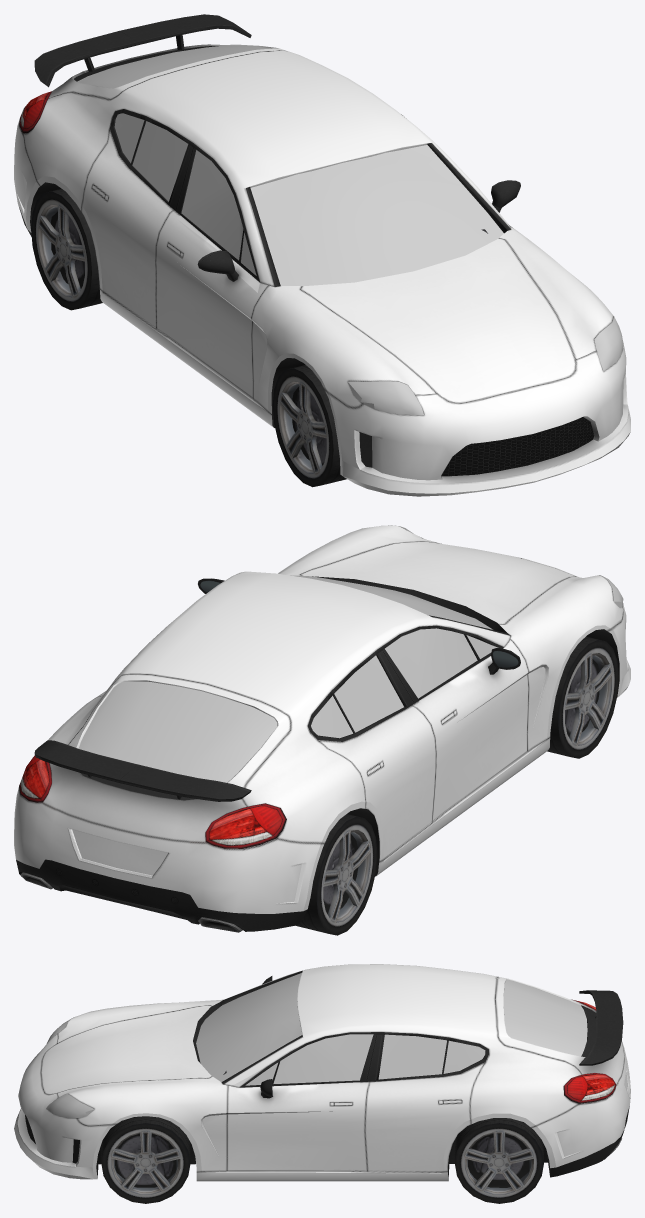
3 renders of one model, top to bottom at view 1: azimuth 30°, elevation 25°; view 2: azimuth 150°, elevation 25°; view 3: azimuth 270°, elevation 25°, orthographic. The views are drawn at different scales.
Parts seen in each view (by area): view 1: Body_28, Glass_28, Matte_28, Wheel_Back_R, Wheel_R, Glass_light, break_R, Taillights_28; view 2: Body_28, Glass_28, Matte_28, Wheel_Back_R, Wheel_R, Taillights_28, break_R; view 3: Body_28, Glass_28, Matte_28, Wheel_L, Wheel_Back_L, break_L, Taillights_28, Glass_light.
Part boxes in pixels (box(x1,y1,x2,y2)): Body_28: box(14, 44, 630, 496); Glass_28: box(77, 45, 503, 408); Matte_28: box(19, 14, 594, 476); Wheel_Back_R: box(31, 188, 102, 310); Wheel_R: box(272, 365, 346, 487); Glass_light: box(348, 317, 623, 414); break_R: box(292, 386, 326, 465); Taillights_28: box(19, 91, 51, 132); Body_28: box(14, 525, 630, 913); Glass_28: box(78, 575, 623, 782); Matte_28: box(16, 576, 619, 932); Wheel_Back_R: box(295, 814, 377, 935); Wheel_R: box(547, 636, 618, 758); Taillights_28: box(19, 755, 286, 848); break_R: box(565, 659, 599, 737); Body_28: box(14, 964, 630, 1181); Glass_28: box(85, 973, 587, 1115); Matte_28: box(25, 970, 630, 1187); Wheel_L: box(101, 1116, 190, 1203); Wheel_Back_L: box(454, 1118, 543, 1203); break_L: box(115, 1133, 176, 1187); Taillights_28: box(563, 999, 616, 1103); Glass_light: box(46, 1020, 93, 1117).
Size of the model in its own units: 83.74 by 55.2 by 189.
